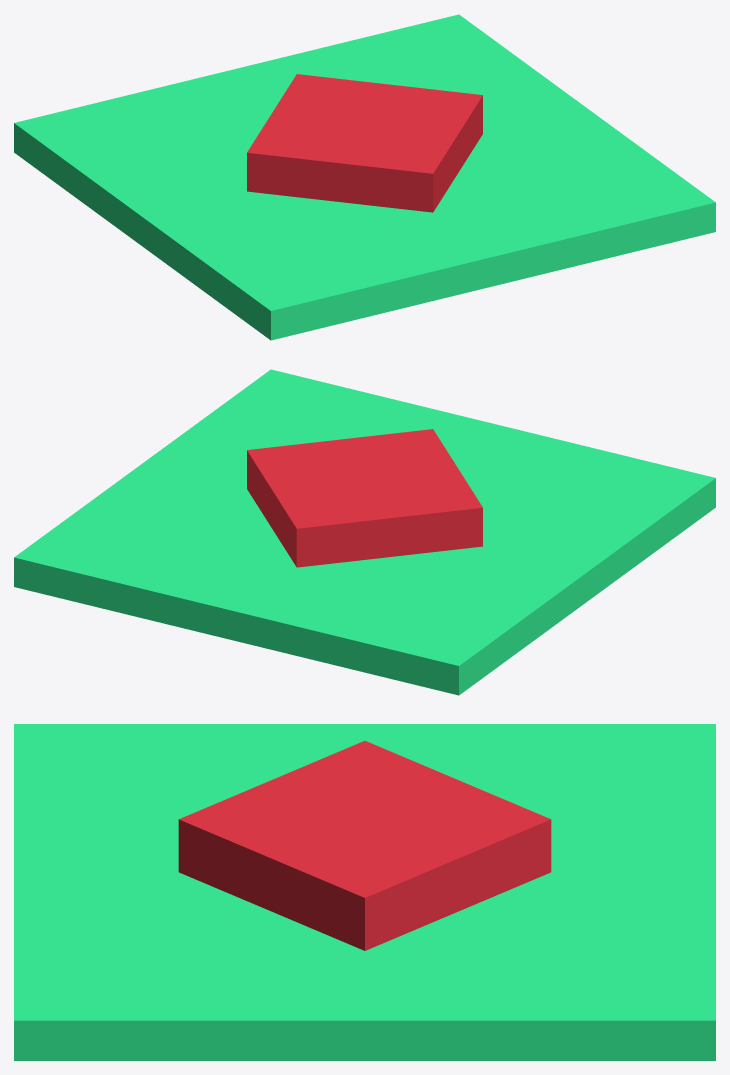
File: obstacleDiamond.fbx
3 views of the same model, one above another, from view 1: azimuth 30°, elevation 25°; view 2: azimuth 150°, elevation 25°; view 3: azimuth 270°, elevation 25° (orthographic). The views are drawn at different scales.
Parts seen in each view (by area): view 1: obstacleDiamond; view 2: obstacleDiamond; view 3: obstacleDiamond.
Boxes of the visible parts, x1,y1,x2,y2 form: obstacleDiamond: (14,14,715,340); obstacleDiamond: (14,369,715,695); obstacleDiamond: (14,724,715,1060).
Size of the model in its own units: 10 by 1.47 by 10.
